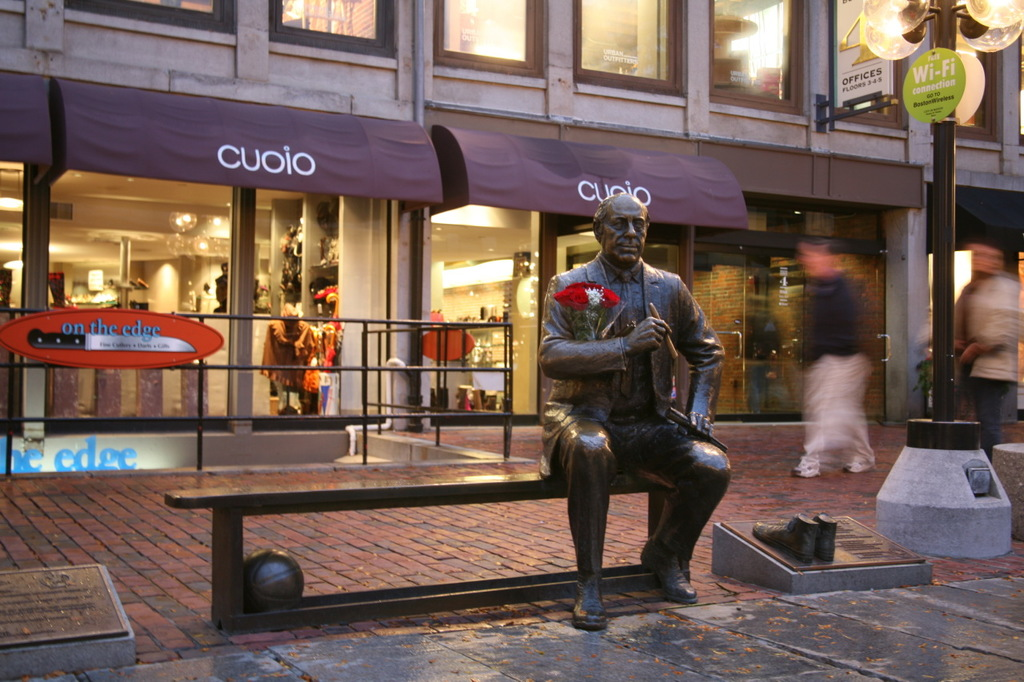Window: (824, 0, 997, 137), (566, 1, 694, 99), (712, 0, 808, 115), (422, 0, 552, 78), (268, 0, 404, 58), (49, 0, 239, 28), (1001, 11, 1023, 167)
